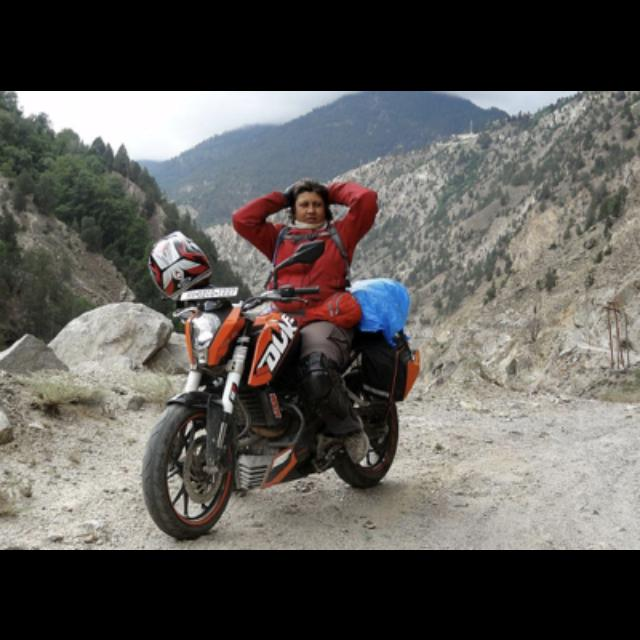Without Helmet: (280, 164, 342, 244)
